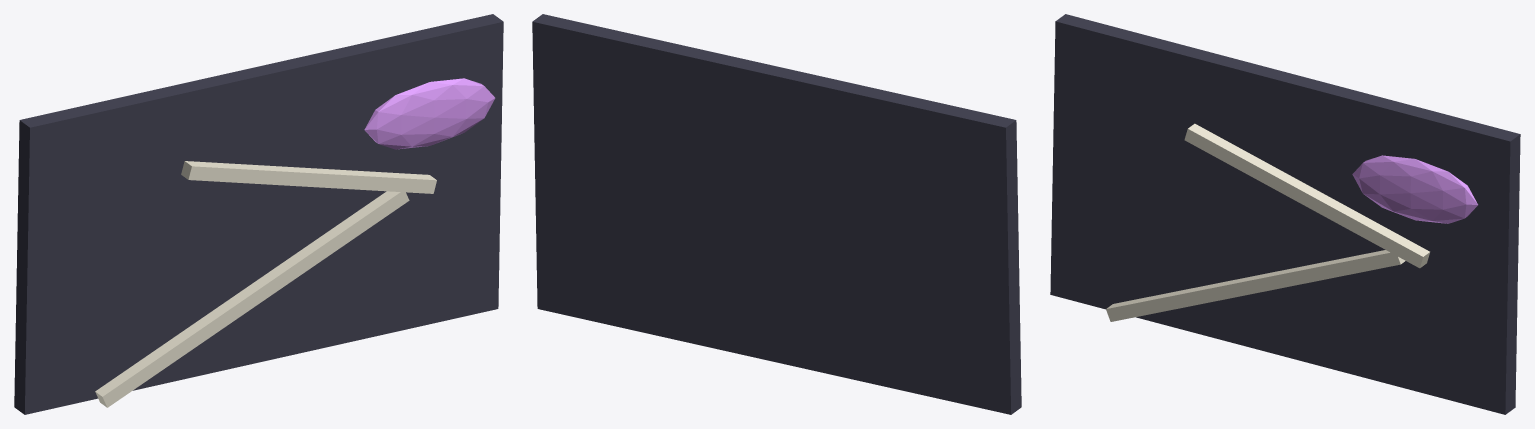
File: 03_weathering_wear_overlay_3.glb
The picture shows the model from 3 angles, left to right: view 1: azimuth 30°, elevation 25°; view 2: azimuth 150°, elevation 25°; view 3: azimuth 330°, elevation 25°; orthographic projection. The views are drawn at different scales.
Visible parts, largest first — view 1: wear_plate, scratch_a, rust_or_moss_spot, scratch_b; view 2: wear_plate; view 3: wear_plate, rust_or_moss_spot, scratch_b, scratch_a.
Part boxes in pixels (x1,y1,x2,y2): wear_plate: (14,14,503,414); scratch_a: (95,191,409,407); rust_or_moss_spot: (364,78,495,149); scratch_b: (181,161,436,193); wear_plate: (532,14,1021,414); wear_plate: (1050,14,1520,414); rust_or_moss_spot: (1352,155,1477,223); scratch_b: (1184,123,1429,268); scratch_a: (1106,250,1405,321).
Size of the model in its own units: 1.31 by 0.7748 by 0.134.
